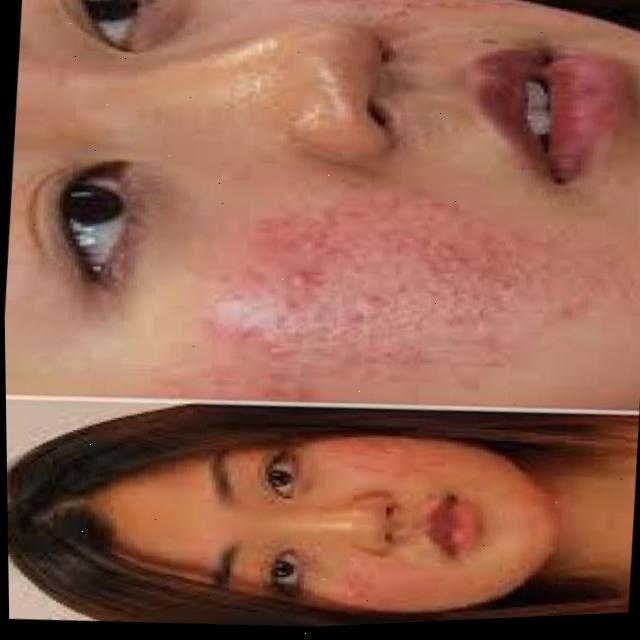Rosacea: (179, 183, 534, 399), (275, 0, 472, 23)
